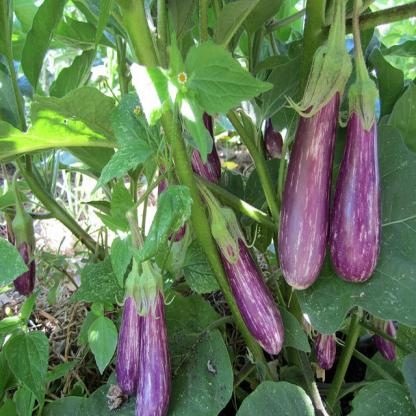--: (189, 172, 287, 357), (275, 0, 333, 287), (331, 0, 381, 277), (129, 246, 179, 416)
